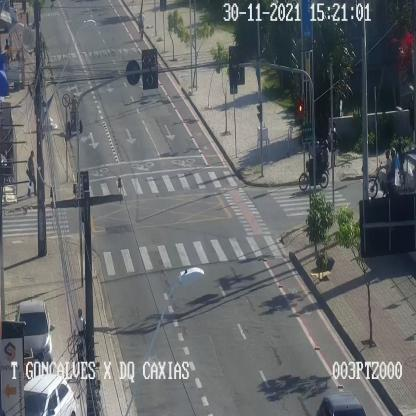bicycle: (138, 9, 144, 40)
car: (16, 298, 55, 362), (23, 374, 76, 416)
motorbike: (368, 147, 400, 197), (299, 139, 330, 190)
person: (73, 308, 86, 378), (27, 149, 37, 197), (328, 120, 338, 168), (396, 136, 405, 177), (69, 94, 78, 130)
